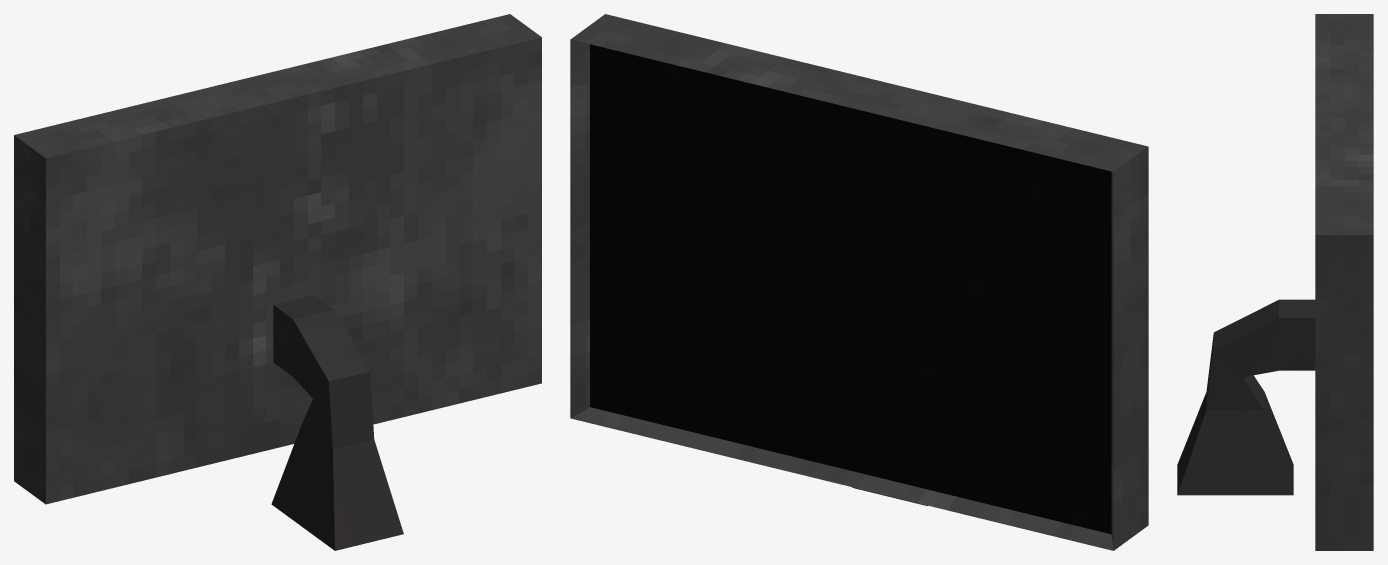
File: computer_screen.gltf
3 renders of one model, left to right at view 1: azimuth 30°, elevation 25°; view 2: azimuth 150°, elevation 25°; view 3: azimuth 270°, elevation 25°, orthographic. The views are drawn at different scales.
Parts seen in each view (by area): view 1: screen_case, screen_handle; view 2: screen, screen_case; view 3: screen_case, screen_handle.
Boxes of the visible parts, box(x1,y1,x2,y2) form: screen_case: box(14, 14, 541, 504); screen_handle: box(271, 294, 403, 550); screen: box(590, 44, 1111, 534); screen_case: box(570, 14, 1148, 550); screen_case: box(1315, 14, 1373, 550); screen_handle: box(1177, 299, 1315, 495).
Size of the model in its own units: 2.25 by 1.69 by 0.8438.
3 materials, 3 textured.
